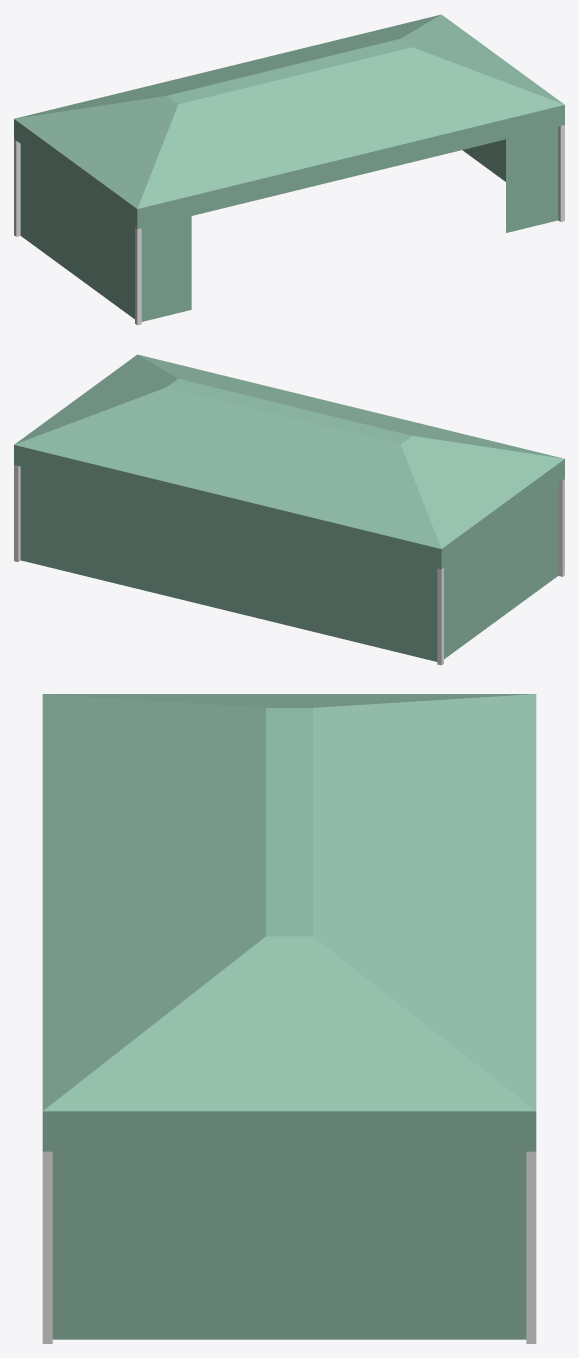
File: tentClosedLong.glb
3 renders of one model, top to bottom at view 1: azimuth 30°, elevation 25°; view 2: azimuth 150°, elevation 25°; view 3: azimuth 270°, elevation 25°, orthographic. The views are drawn at different scales.
Visible parts, largest first — view 1: tentClosedLong(Clone); view 2: tentClosedLong(Clone); view 3: tentClosedLong(Clone).
Boxes of the visible parts, x1,y1,x2,y2 form: tentClosedLong(Clone): [14, 14, 564, 325]; tentClosedLong(Clone): [14, 354, 564, 665]; tentClosedLong(Clone): [42, 694, 536, 1343].
Size of the model in its own units: 2 by 0.7 by 1.
